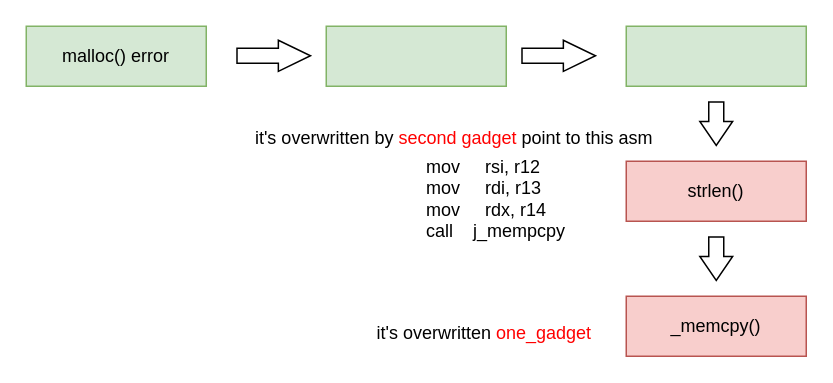
Image size: 833x383. Some labels were removed from this diagram. Each missing label, with the centre of its shape:
__libc_message(): [715,55]
malloc_printerr(): [415,55]
